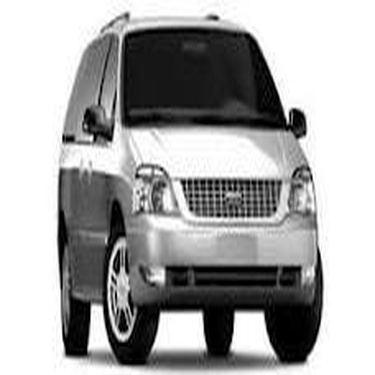car: (37, 1, 332, 367)
